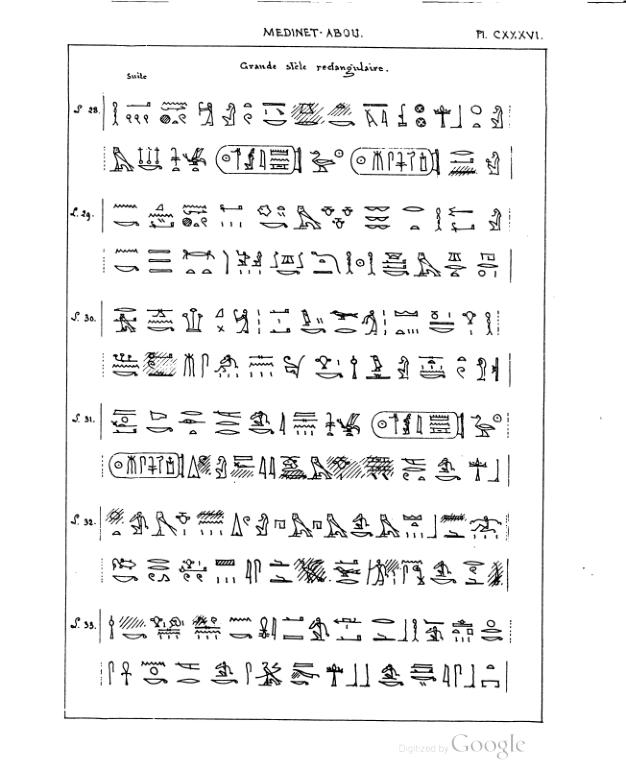circle: (370, 405, 467, 442), (348, 143, 444, 180), (214, 142, 307, 178), (106, 450, 187, 481)
